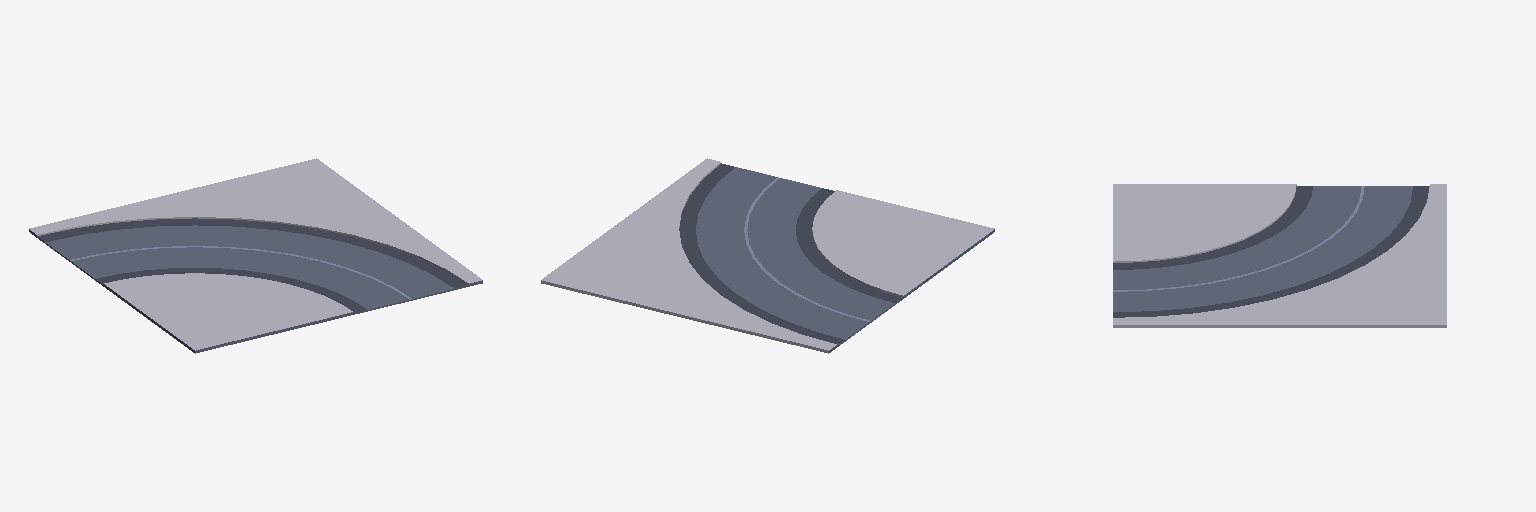
Rendered from road_curvePavement.obj.
3 views of the same model, side by side, from view 1: azimuth 30°, elevation 25°; view 2: azimuth 150°, elevation 25°; view 3: azimuth 270°, elevation 25° (orthographic).
Parts seen in each view (by area): view 1: road_curvePavement; view 2: road_curvePavement; view 3: road_curvePavement.
Boxes of the visible parts, x1=… form: road_curvePavement: x1=29, y1=158, x2=482, y2=353; road_curvePavement: x1=541, y1=158, x2=994, y2=353; road_curvePavement: x1=1113, y1=184, x2=1446, y2=327.
Size of the model in its own units: 2 by 0.02 by 2.